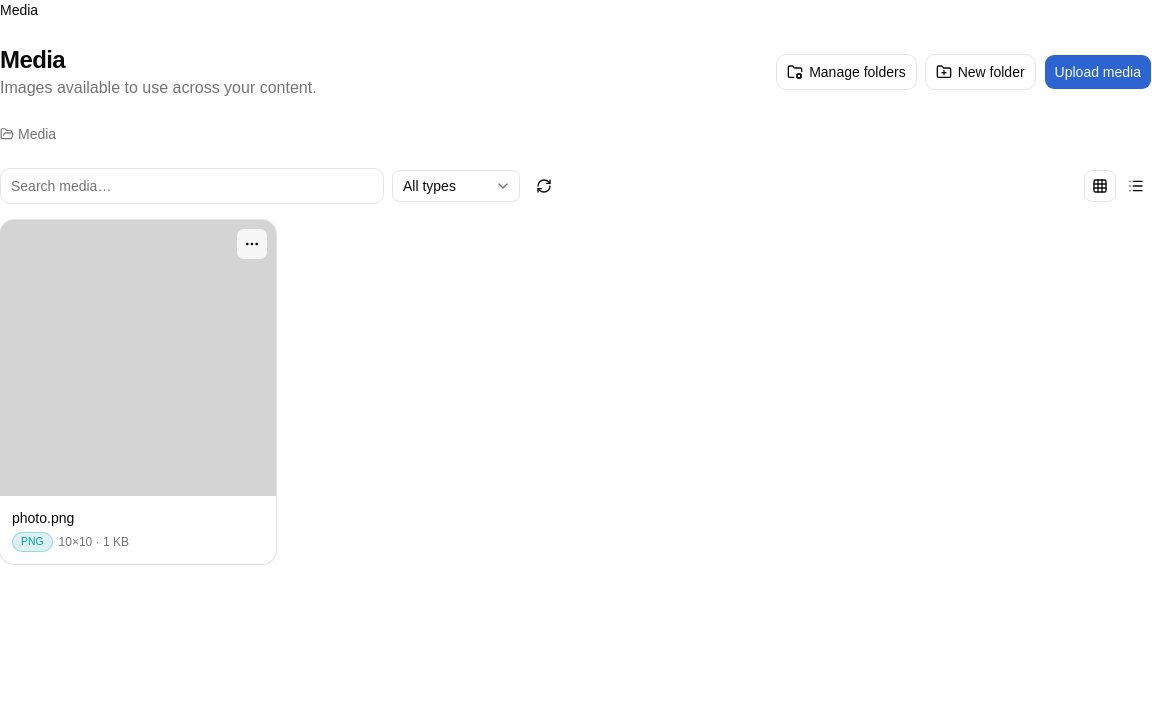
Test: MediaLibraryPage › does not delete when the alert dialog is cancelled
Expected: the text "photo.png" is shown, [12,510,74,526]
Click the button named "Manage photo.png".
click(252, 244)  # box [236,228,268,260]
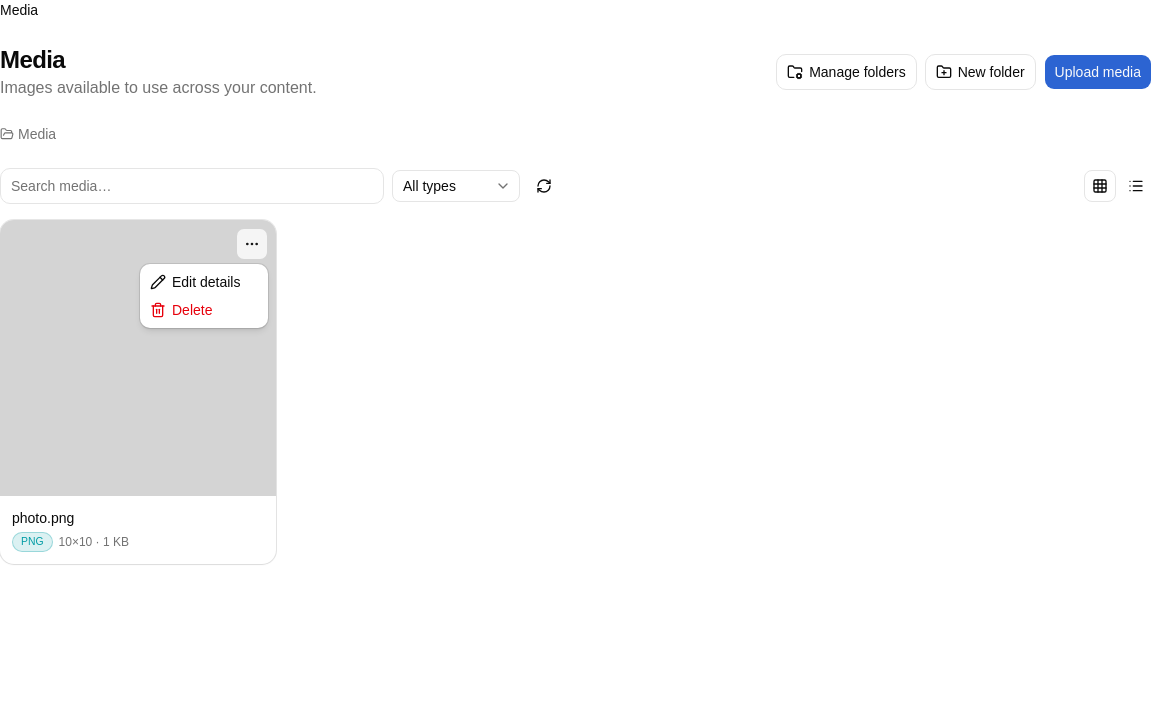
Click the menu item "Delete".
click(181, 310)  # box [150,302,212,318]
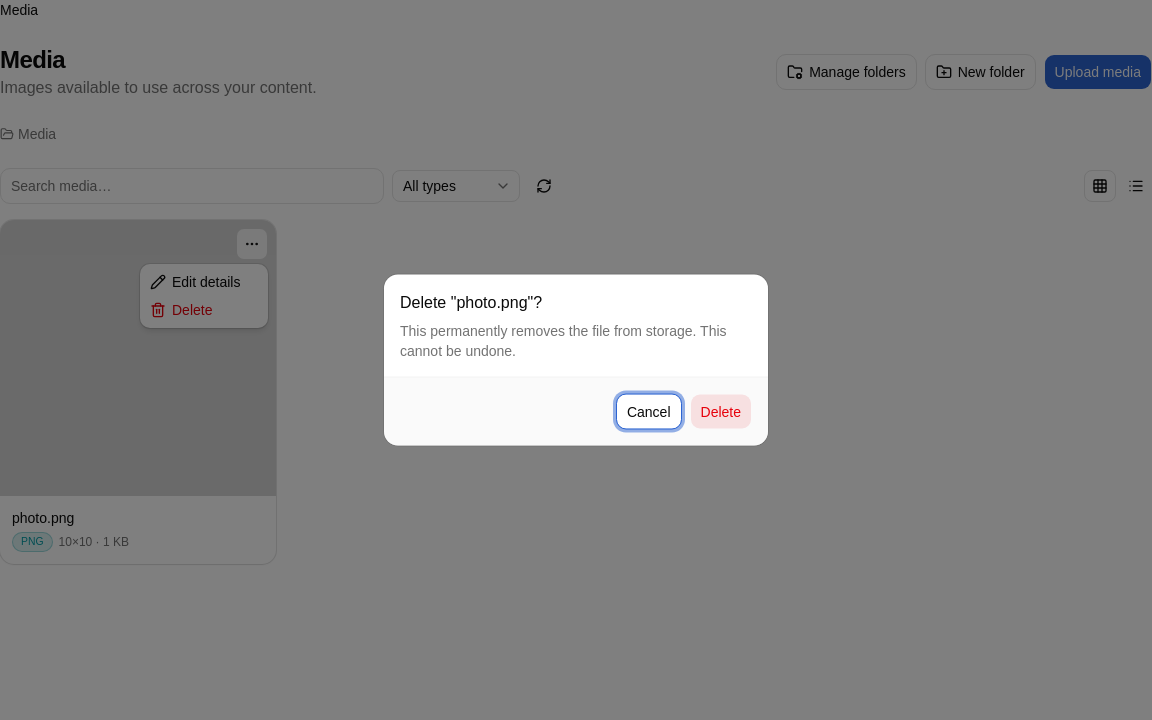
Click the button "Cancel".
click(649, 412)  # box [616,394,682,430]
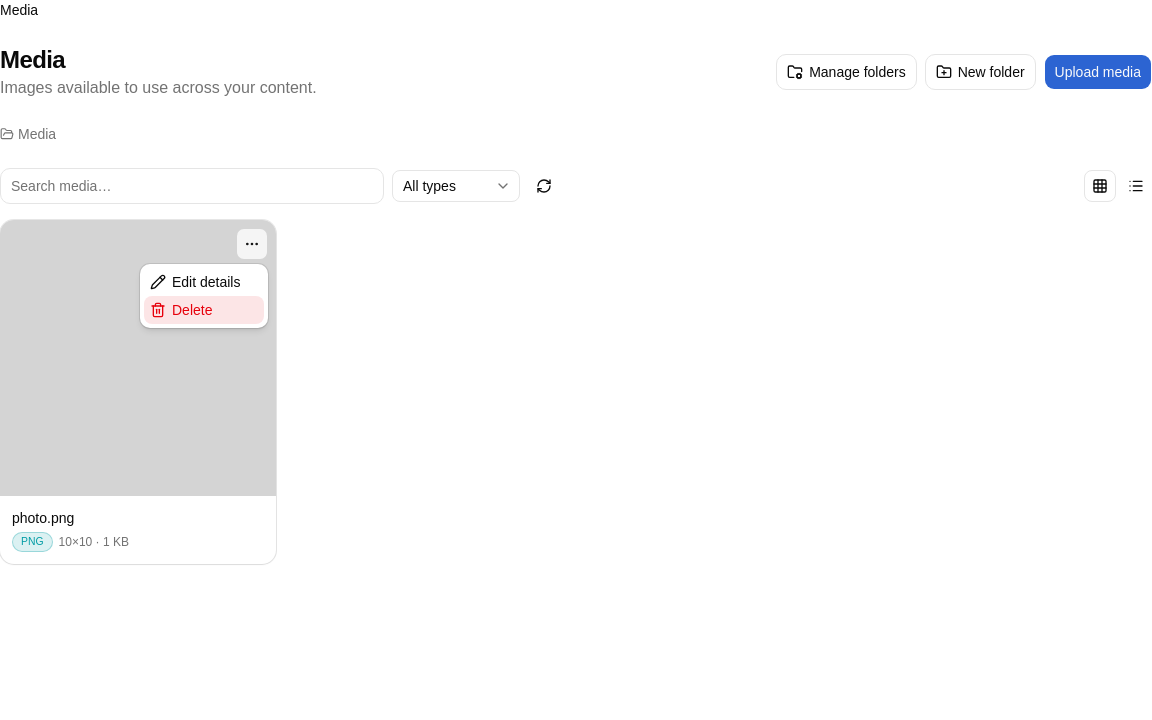
Result: the dialog is gone
